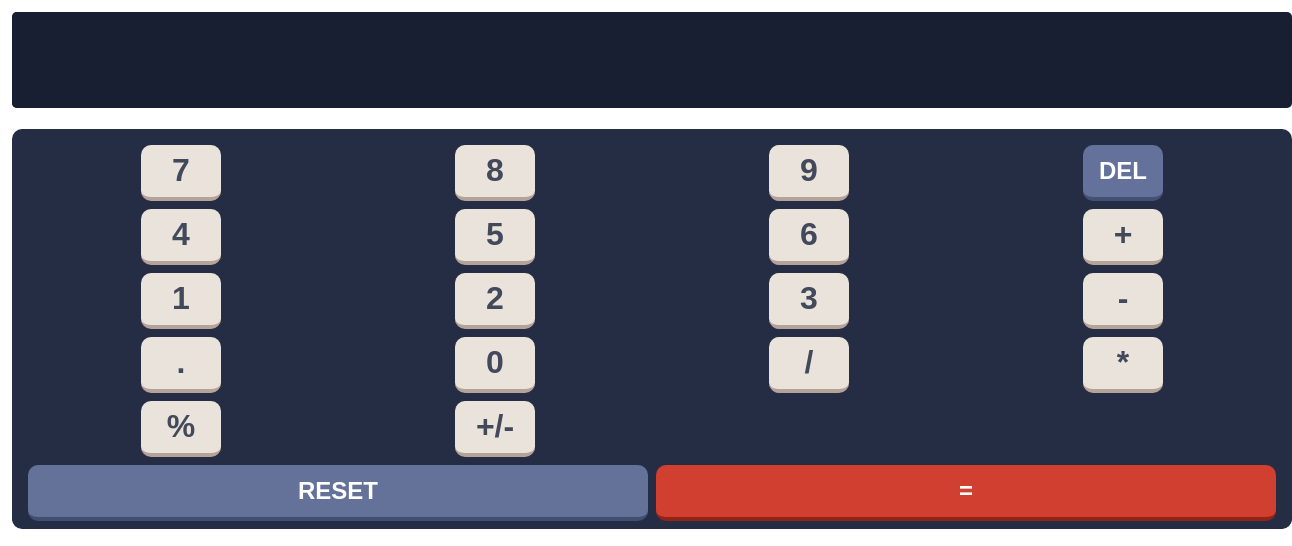
Scenario: Test for the diffetent actions to calculator components › divide 2 numbers and limit the result to 9 numbers
Click the button "2". click: coordinates (495, 301)
box: [455,273,535,329]
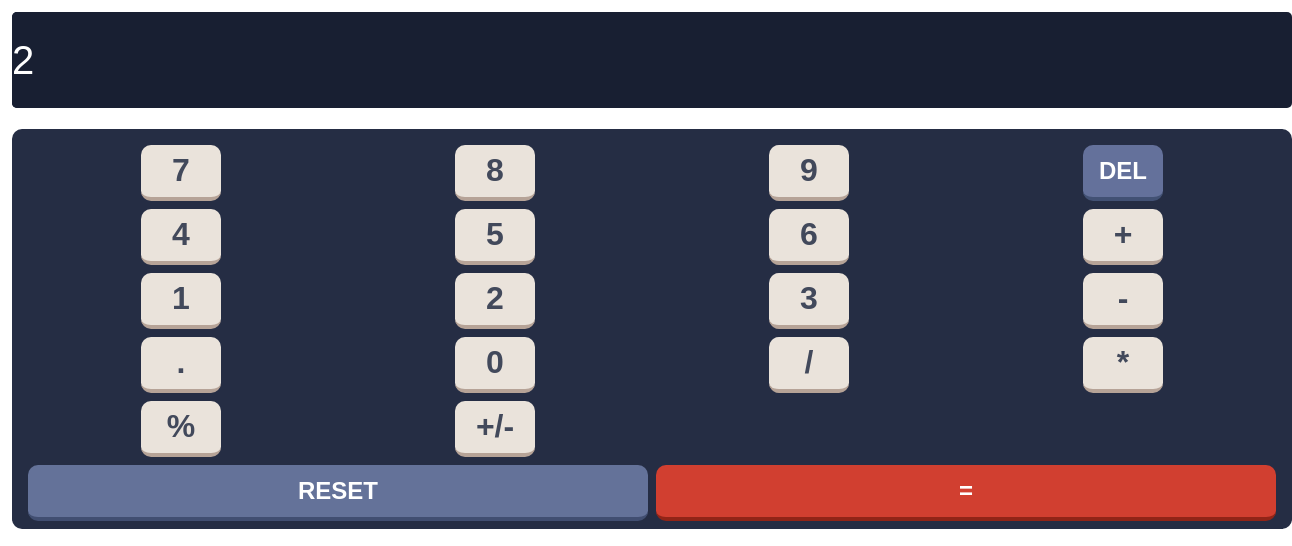
Click the button "2". click: coordinates (495, 301)
box: [455,273,535,329]
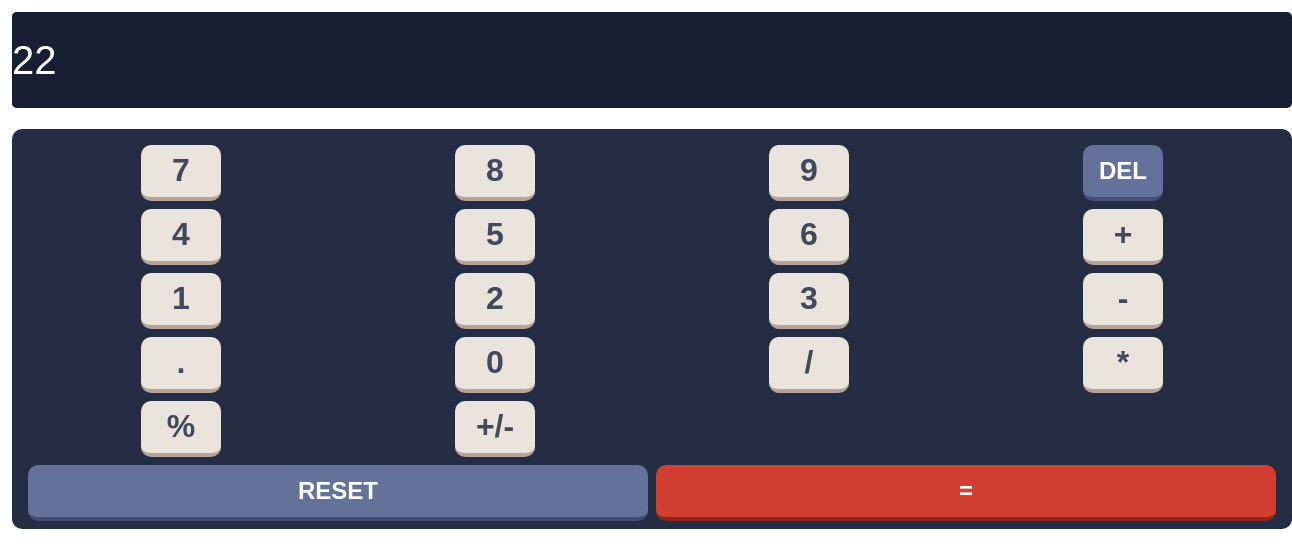
Click the button "/". click: coordinates (809, 365)
box: [769,337,849,393]
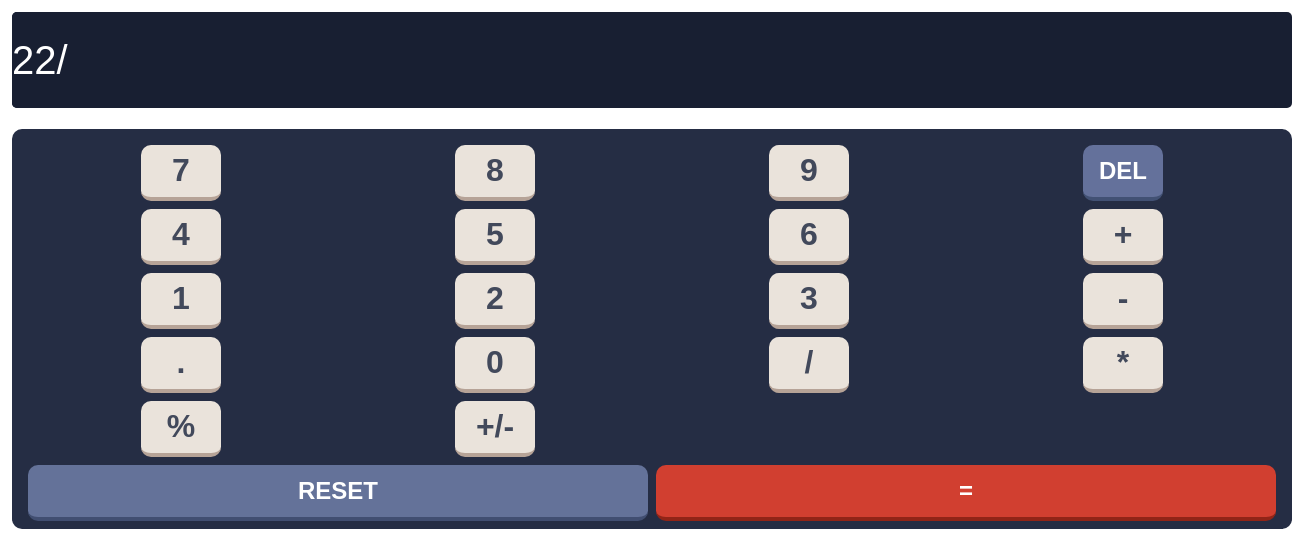
Click the button "7". click: coordinates (181, 173)
box: [141,145,221,201]
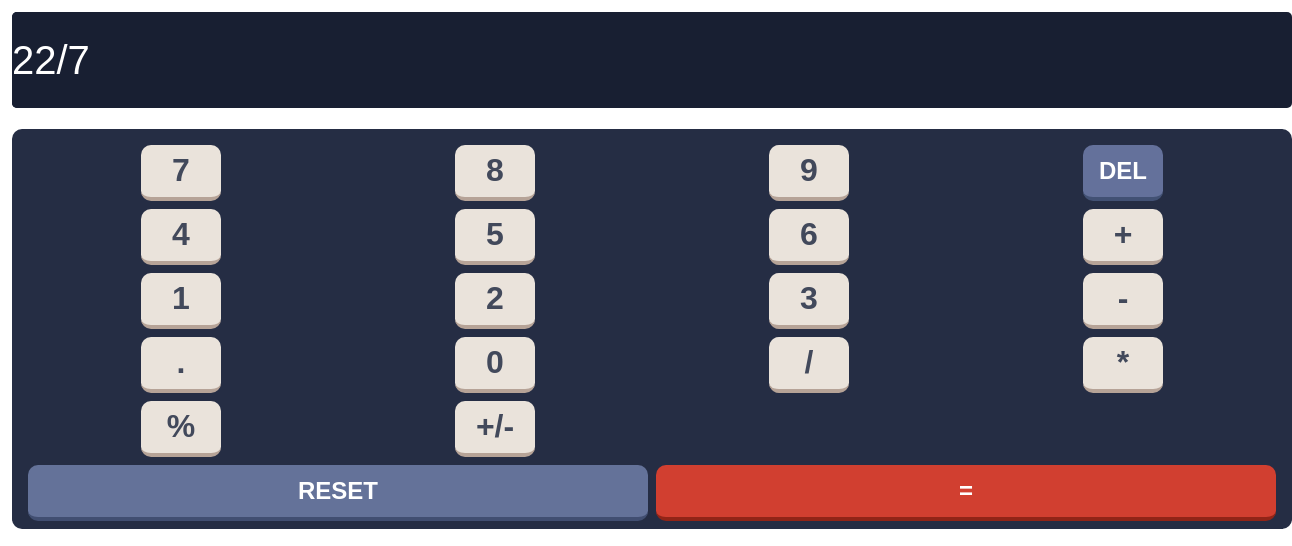
Click the button "=". click: coordinates (966, 493)
box: [656,465,1276,521]
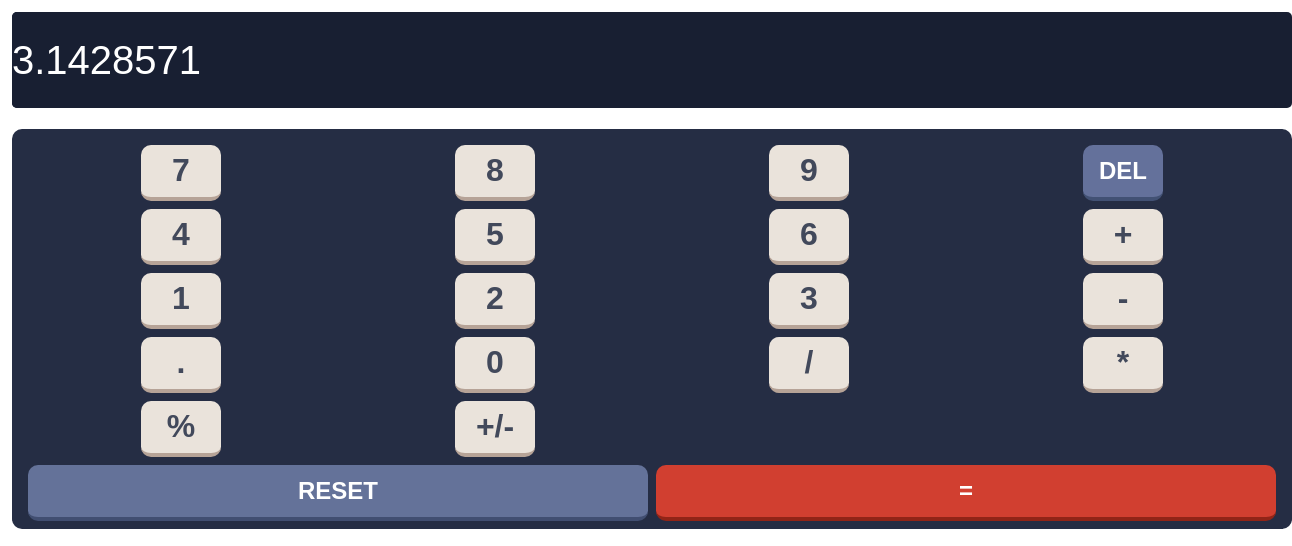
expect the field holds "3.1428571": met, box [12,12,1276,108]
